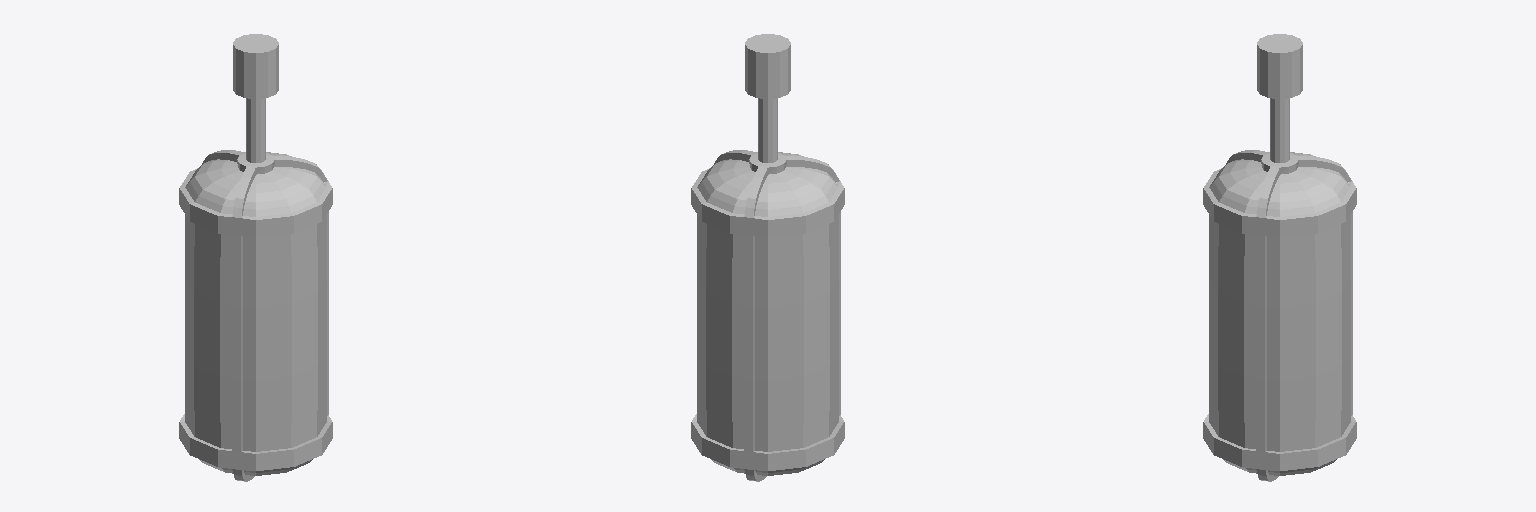
The model's file is Speaker.obj.
3 views of the same model, side by side, from view 1: azimuth 30°, elevation 25°; view 2: azimuth 150°, elevation 25°; view 3: azimuth 270°, elevation 25° (orthographic).
Parts seen in each view (by area): view 1: Cylinder_Cylinder.001; view 2: Cylinder_Cylinder.001; view 3: Cylinder_Cylinder.001.
Part boxes in pixels (x1,y1,x2,y2): Cylinder_Cylinder.001: (179,34,332,481); Cylinder_Cylinder.001: (691,34,844,481); Cylinder_Cylinder.001: (1203,34,1356,481).
Bounding box in the file's own units: 0.298 × 0.9128 × 0.298.